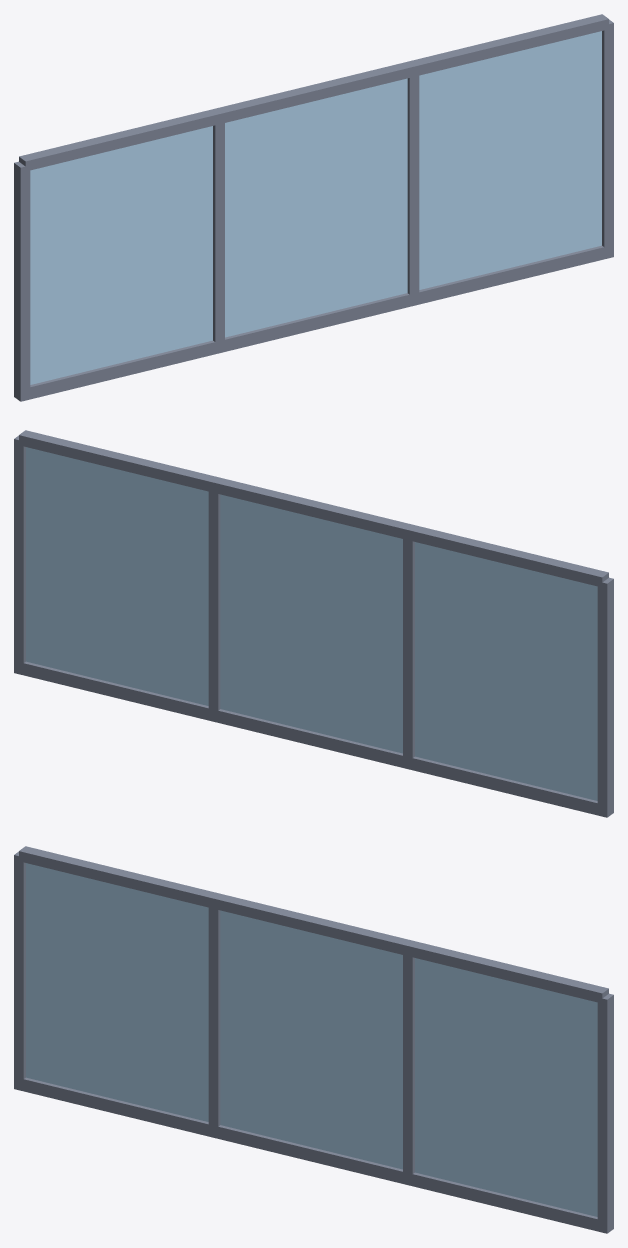
Rendered from glass_partition.glb.
The picture shows the model from 3 angles, top to bottom: view 1: azimuth 30°, elevation 25°; view 2: azimuth 150°, elevation 25°; view 3: azimuth 330°, elevation 25°; orthographic projection.
Parts seen in each view (by area): view 1: glass, rail_top, rail_low, post, post.002, post.003, post.001; view 2: glass, rail_top, rail_low, post, post.002, post.003, post.001; view 3: glass, rail_top, rail_low, post.003, post.001, post, post.002.
Part boxes in pixels (x1,y1,x2,y2): glass: [30, 31, 601, 384]; rail_top: [19, 14, 608, 171]; rail_low: [25, 245, 608, 400]; post: [14, 161, 30, 401]; post.002: [407, 72, 419, 306]; post.003: [602, 19, 613, 258]; post.001: [213, 120, 224, 353]; glass: [26, 447, 597, 800]; rail_top: [19, 430, 608, 587]; rail_low: [19, 661, 602, 816]; post: [597, 577, 613, 817]; post.002: [208, 487, 220, 722]; post.003: [14, 435, 25, 674]; post.001: [403, 534, 414, 770]; glass: [26, 863, 597, 1216]; rail_top: [19, 846, 608, 1003]; rail_low: [19, 1077, 602, 1232]; post.003: [597, 993, 613, 1233]; post.001: [208, 903, 220, 1138]; post: [14, 851, 25, 1090]; post.002: [403, 950, 414, 1186].
Bounding box in the file's own units: 3.05 × 1.17 × 0.06.
